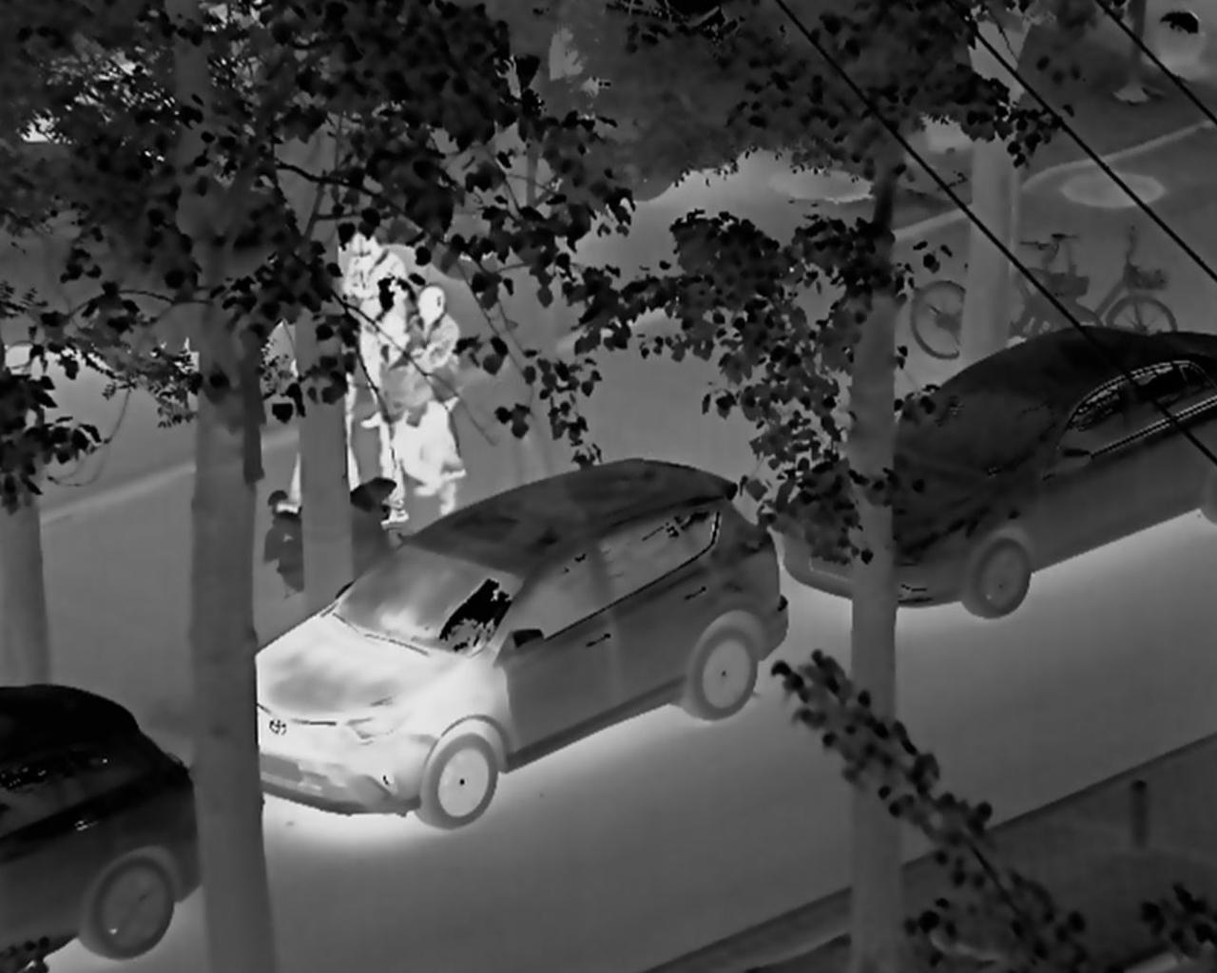person: (372, 285, 462, 520)
